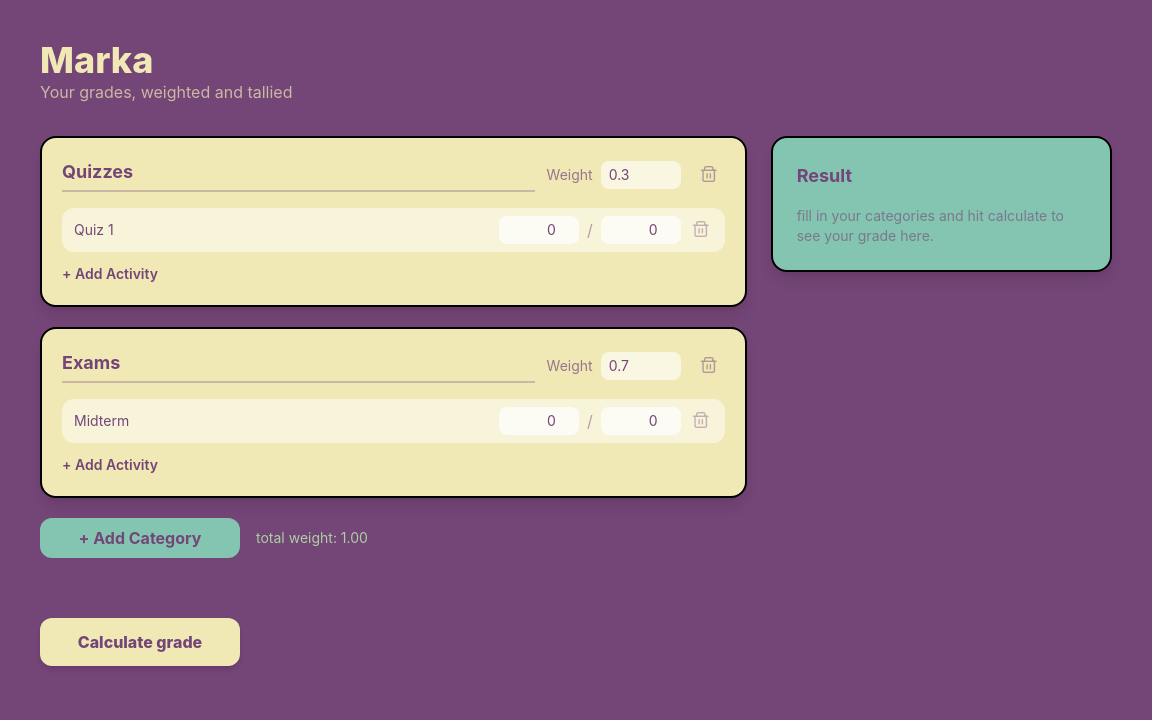
Test: App › adds an assessment
What coordinates should you click on to do the following:
click the 1st button "+ Add Activity"
I would click on:
 (110, 274)
Its box is top-left (62, 264), bottom-right (158, 284).
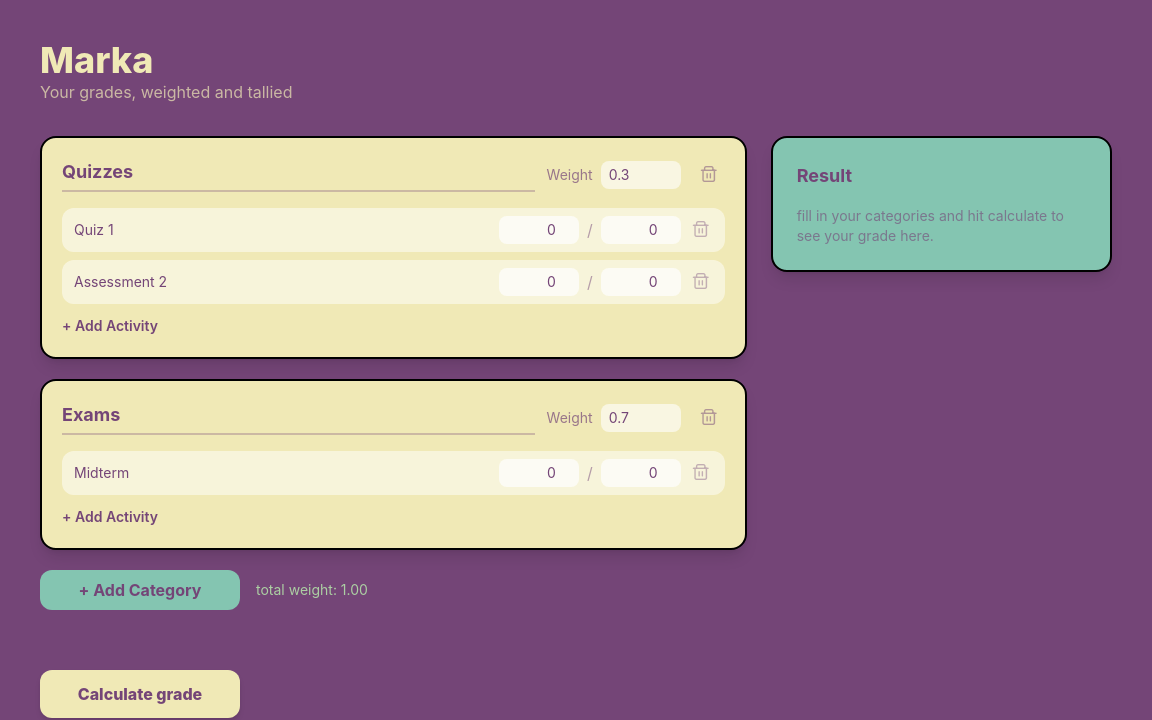
Expected: the number of fields with placeholder "Assessment name" is 3, top-left (74, 220), bottom-right (491, 240); top-left (74, 272), bottom-right (491, 292); top-left (74, 463), bottom-right (491, 483)
